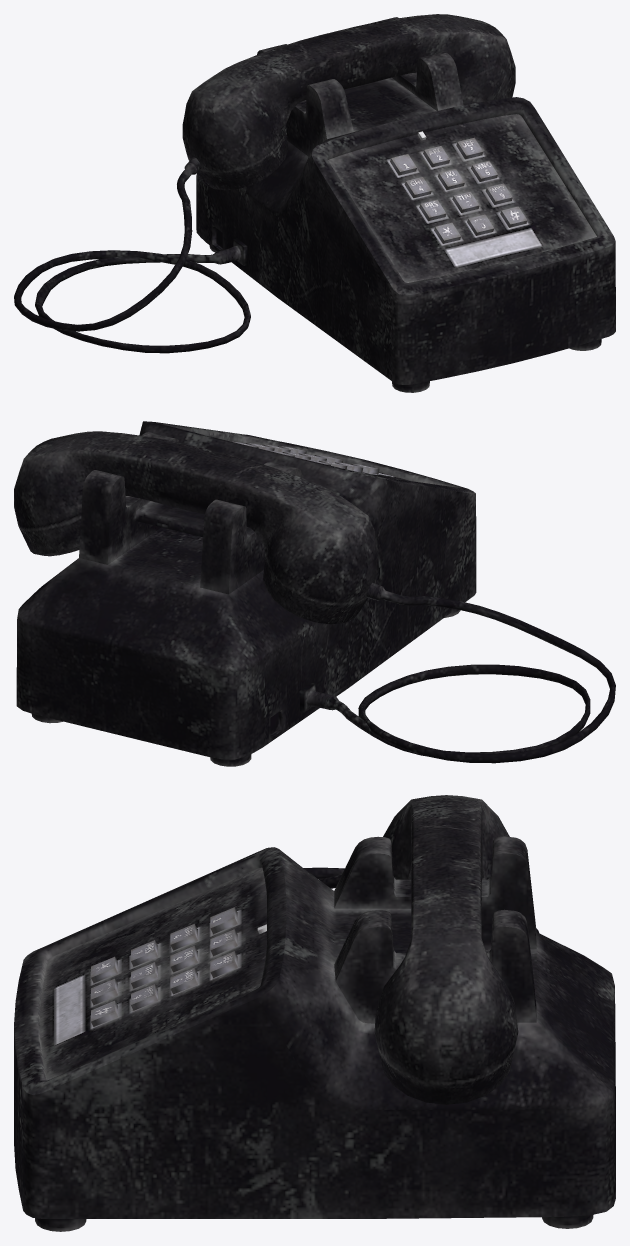
File: 013_BlackTelePhone.fbx
The picture shows the model from 3 angles, top to bottom: view 1: azimuth 30°, elevation 25°; view 2: azimuth 150°, elevation 25°; view 3: azimuth 270°, elevation 25°; orthographic projection. The views are drawn at different scales.
Visible parts, largest first — view 1: LOD_1_Group_0_Sub_1__sm31_013_BlackTelephone01A_A_Mat, LOD_1_Group_1_Sub_1__sm31_013_BlackTelephone01A_A_Mat; view 2: LOD_1_Group_0_Sub_1__sm31_013_BlackTelephone01A_A_Mat, LOD_1_Group_1_Sub_1__sm31_013_BlackTelephone01A_A_Mat; view 3: LOD_1_Group_0_Sub_1__sm31_013_BlackTelephone01A_A_Mat, LOD_1_Group_1_Sub_1__sm31_013_BlackTelephone01A_A_Mat.
Part boxes in pixels (x1,y1,x2,y2): LOD_1_Group_0_Sub_1__sm31_013_BlackTelephone01A_A_Mat: (14,17,615,392); LOD_1_Group_1_Sub_1__sm31_013_BlackTelephone01A_A_Mat: (182,14,515,190); LOD_1_Group_0_Sub_1__sm31_013_BlackTelephone01A_A_Mat: (16,421,615,766); LOD_1_Group_1_Sub_1__sm31_013_BlackTelephone01A_A_Mat: (14,431,378,624); LOD_1_Group_0_Sub_1__sm31_013_BlackTelephone01A_A_Mat: (14,836,615,1231); LOD_1_Group_1_Sub_1__sm31_013_BlackTelephone01A_A_Mat: (374,795,518,1104).
Bounding box in the file's own units: 0.3279 × 0.1407 × 0.2513.
